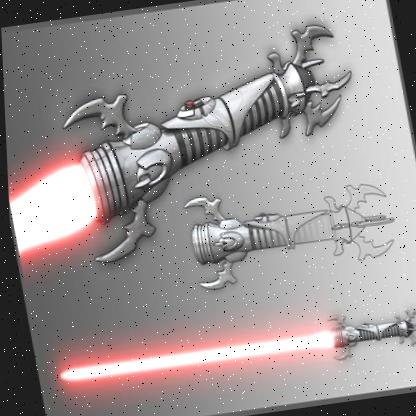sith_lightsaber: (8, 22, 350, 269), (43, 291, 416, 406)
